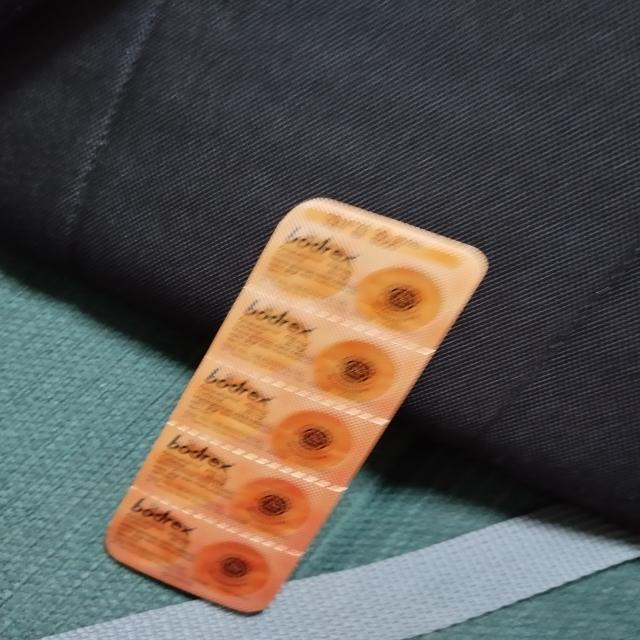B3: (94, 195, 489, 614)
